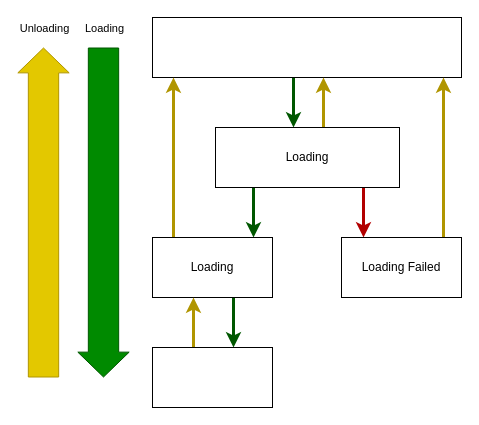
The diagram is 479 pixels wide and 425 high, and some of its shapes have lost their labels. Here are the shapes that lost their labels. From the top down, the centre of each, then its label:
the point at 307,47: Unloaded
the point at 212,377: Initialized
